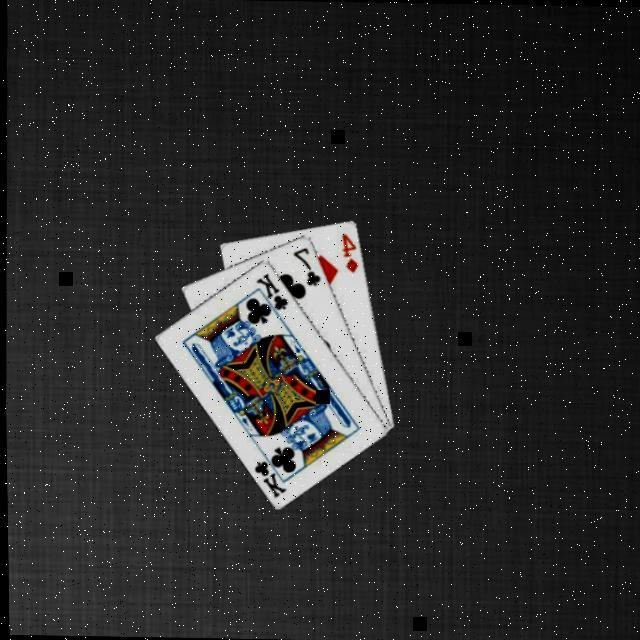4D: (338, 228, 362, 272)
7C: (288, 241, 324, 286)
KC: (252, 267, 292, 318), (249, 447, 289, 498)
